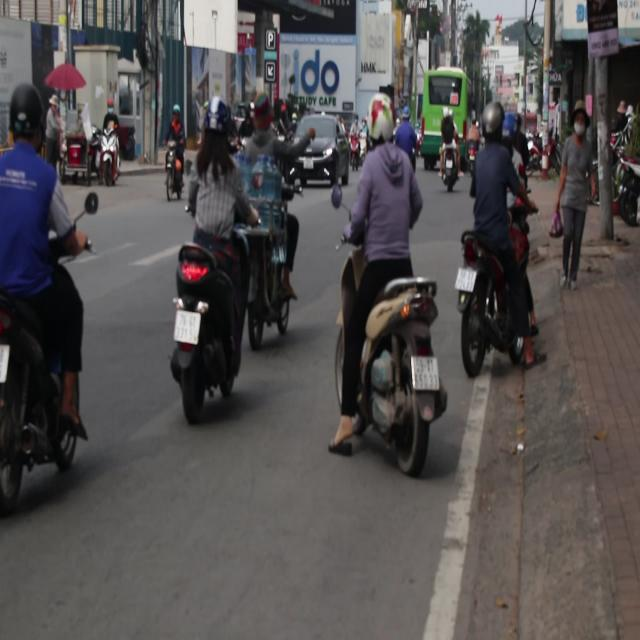bus: (416, 69, 471, 153), (368, 92, 396, 150)
car: (289, 114, 347, 188)
motorbike: (0, 251, 113, 481), (340, 272, 448, 478), (462, 233, 550, 385), (170, 240, 243, 420), (240, 147, 302, 317), (98, 132, 134, 195), (613, 151, 640, 229), (163, 126, 183, 207), (63, 138, 91, 188), (438, 143, 460, 194), (350, 111, 364, 160)
